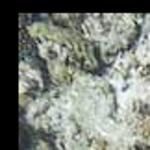dead: (19, 11, 143, 147)
